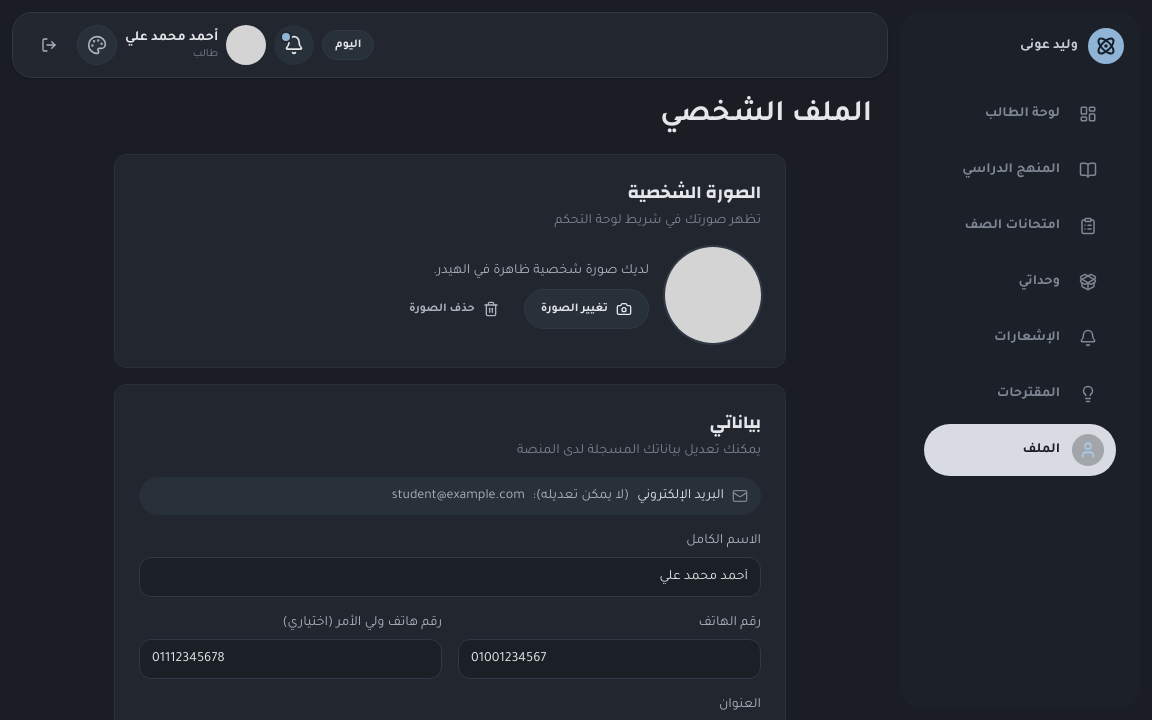
Test case: StudentProfilePage › removes the avatar and falls back to the initial
Click the button "حذف الصورة" at (454, 309), box left=392, top=289, right=516, bottom=329
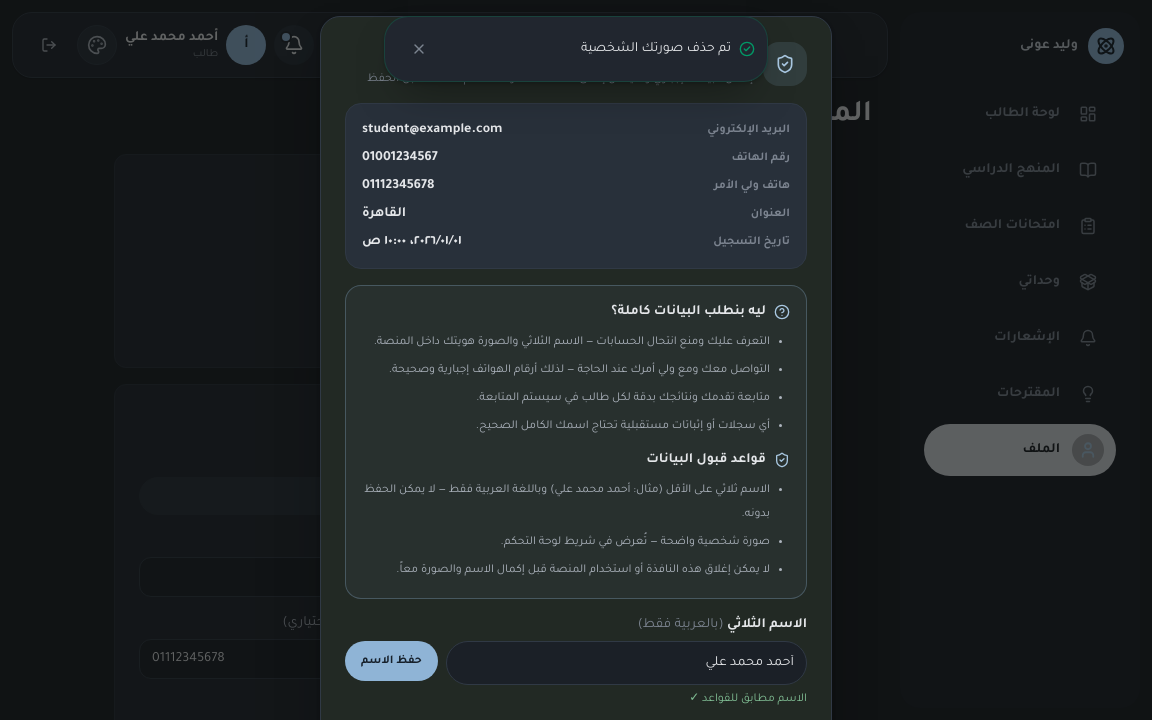
Check: the text "تم حذف صورتك الشخصية" is shown, box left=581, top=42, right=731, bottom=56
Check: the picture with test id "avatar-image" is gone
